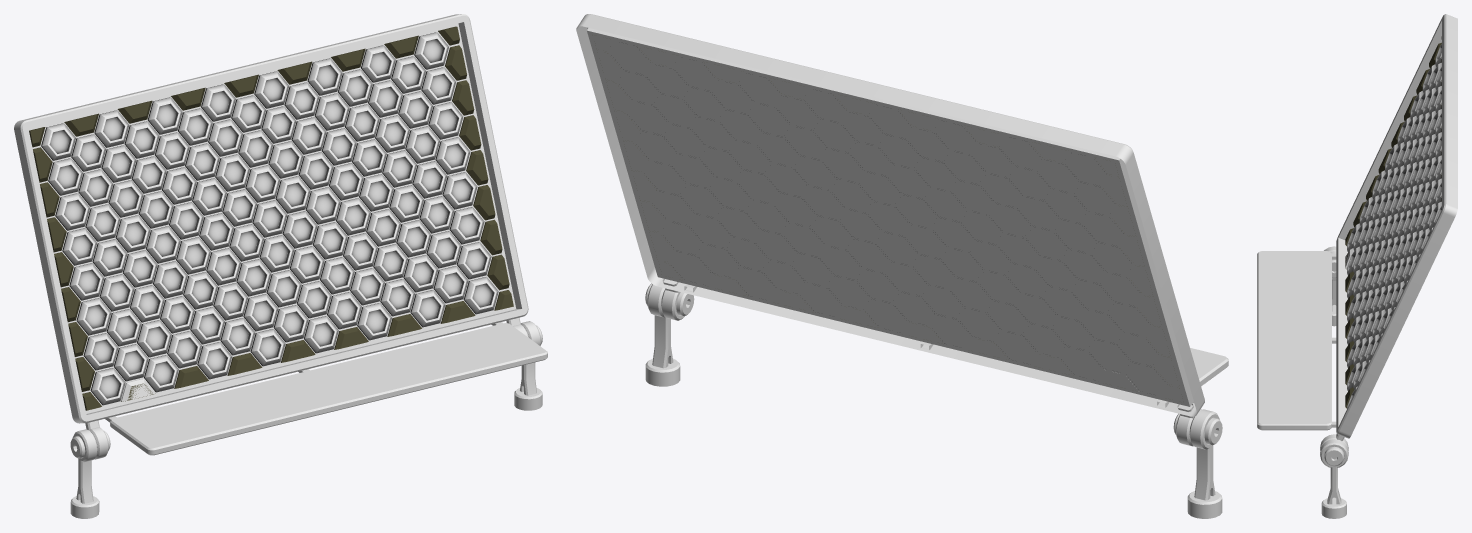
File: HoneyComb_TableandPlatform.fbx
3 views of the same model, side by side, from view 1: azimuth 30°, elevation 25°; view 2: azimuth 150°, elevation 25°; view 3: azimuth 270°, elevation 25° (orthographic). The views are drawn at different scales.
Visible parts, largest first — view 1: HoneyComb, Hexago_Subunit_92, Hexago_Subunit_103, Hexago_Subunit_45, Hexago_Subunit_49, Hexago_Subunit_53, Hexago_Subunit_56, Hexago_Subunit_74, Hexago_Subunit_77, Hexago_Subunit_84, Hexago_Subunit_85, Hexago_Subunit_88 (+102 smaller); view 2: HoneyComb; view 3: HoneyComb.
Part boxes in pixels (box(x1,y1,x2,y2)): HoneyComb: box(14, 14, 547, 518); Hexago_Subunit_92: box(101, 145, 136, 182); Hexago_Subunit_103: box(284, 82, 319, 119); Hexago_Subunit_45: box(419, 196, 454, 233); Hexago_Subunit_49: box(229, 224, 264, 261); Hexago_Subunit_53: box(442, 172, 477, 209); Hexago_Subunit_56: box(199, 213, 233, 250); Hexago_Subunit_74: box(352, 139, 386, 176); Hexago_Subunit_77: box(108, 180, 143, 217); Hexago_Subunit_84: box(78, 169, 113, 206); Hexago_Subunit_85: box(131, 156, 166, 193); Hexago_Subunit_88: box(291, 117, 326, 154); HoneyComb: box(576, 14, 1228, 518); HoneyComb: box(1257, 14, 1457, 518).
Size of the model in its own units: 1696 by 1196 by 707.
2 materials, 1 textured.
